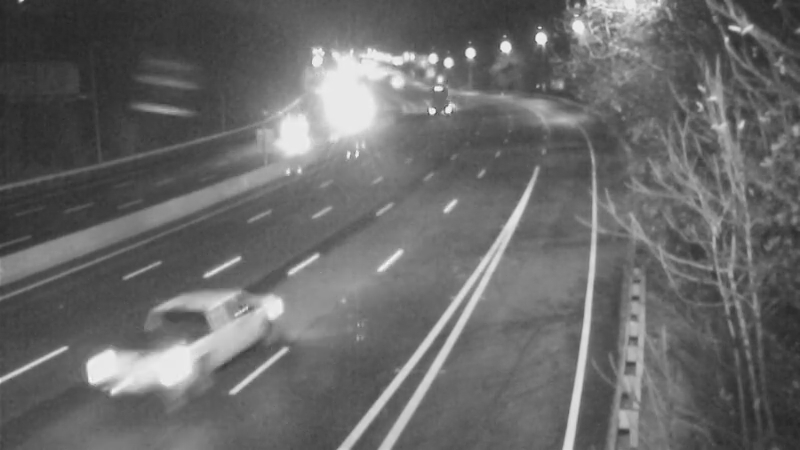vehicle: (99, 302, 209, 412), (409, 69, 459, 119), (261, 110, 311, 160), (318, 96, 368, 146)
